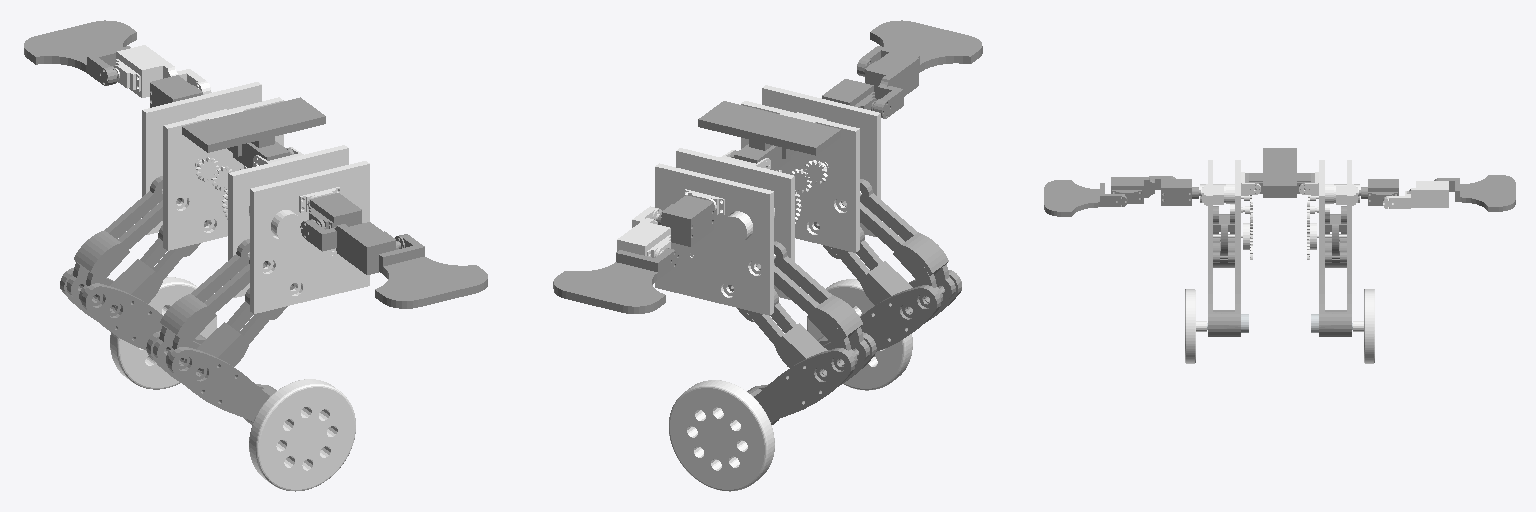
--- Render facts (derived) ---
3 views of the same robot in one strip: view 1: azimuth 30°, elevation 25°; view 2: azimuth 150°, elevation 25°; view 3: azimuth 270°, elevation 25° (orthographic).
Model jumpbot with 23 links and 22 joints (16 revolute, 4 continuous, 2 fixed), rooted at base_link, posed every joint at zero.
Visible links, largest first — view 1: R_baselink, L_baselink, R_wheel, base_link, R_arm3, L_arm3, R_leg3, L_leg3, R_leg1_R, L_leg1_R, L_wheel, R_arm2 (+6 smaller); view 2: L_baselink, R_baselink, L_wheel, L_arm3, base_link, L_leg3, R_leg3, R_arm3, L_leg1_L, R_leg1_L, R_wheel, R_arm2 (+6 smaller); view 3: L_baselink, R_baselink, base_link, R_arm3, L_arm3, L_arm2, R_arm2, L_wheel, R_wheel, R_arm1, L_arm1, L_leg1_R (+5 smaller).
Boxes of the visible links, x1,y1,x2,y2 form: R_baselink: (228, 145, 369, 313); L_baselink: (142, 82, 283, 250); R_wheel: (249, 379, 355, 491); base_link: (182, 97, 325, 167); R_arm3: (375, 234, 487, 308); L_arm3: (24, 20, 136, 85); R_leg3: (153, 239, 268, 365); L_leg3: (66, 176, 181, 302); R_leg1_R: (168, 347, 271, 421); L_leg1_R: (81, 283, 205, 350); L_wheel: (110, 277, 216, 389); R_arm2: (300, 219, 398, 274); L_baselink: (655, 148, 794, 315); R_baselink: (741, 85, 880, 252); L_wheel: (669, 380, 774, 491); L_arm3: (553, 248, 678, 313); base_link: (698, 101, 840, 170); L_leg3: (756, 241, 869, 366); R_leg3: (841, 179, 955, 303); R_arm3: (857, 20, 982, 76); L_leg1_L: (753, 348, 855, 421); R_leg1_L: (817, 285, 940, 351); R_wheel: (807, 279, 912, 390); R_arm2: (865, 52, 918, 118); L_baselink: (1299, 160, 1359, 274); R_baselink: (1200, 160, 1260, 274); base_link: (1249, 148, 1310, 197); R_arm3: (1044, 180, 1127, 216); L_arm3: (1434, 175, 1515, 211); L_arm2: (1383, 181, 1448, 208); R_arm2: (1111, 176, 1175, 203); L_wheel: (1353, 289, 1374, 363); R_wheel: (1185, 289, 1206, 363); R_arm1: (1161, 179, 1200, 205); L_arm1: (1359, 179, 1398, 205); L_leg1_R: (1319, 275, 1335, 336).
Size in the robot's own frame: 0.2682 by 0.855 by 0.3999 metres.
Meshes: 23 distinct files referenced, 23 mesh visuals loaded (23 binary STL).

robot.urdf — jumpbot:
<?xml version="1.0" ?>
<!-- This URDF was automatically created by SolidWorks to URDF Exporter! Originally created by Stephen Brawner ([email redacted]) 
     Commit Version: 1.6.0-4-g7f85cfe  Build Version: 1.6.7995.38578
     For more information, please see http://wiki.ros.org/sw_urdf_exporter -->
<robot name="jumpbot" xmlns:xacro="http://ros.org/wiki/xacro">

  <link
    name="base_link">
    <inertial>
      <origin
        xyz="0.0809392415875696 -2.22044604925031E-16 -0.0268118589394716"
        rpy="0 0 0" />
      <mass
        value="0.217189619120501" />
      <inertia
        ixx="6.93999698841076E-05"
        ixy="8.1353242860039E-21"
        ixz="4.23516473926473E-21"
        iyy="0.000141175353883686"
        iyz="-2.15898040243286E-20"
        izz="0.00016267826093993" />
    </inertial>
    <visual>
      <origin
        xyz="0 0 0"
        rpy="0 0 0" />
      <geometry>
        <mesh
          filename="package://jumpbot_description/meshes/base_link.STL" />
      </geometry>
      <material
        name="">
        <color
          rgba="0.698039215686274 0.698039215686274 0.698039215686274 1" />
      </material>
    </visual>
    <collision>
      <origin
        xyz="0 0 0"
        rpy="0 0 0" />
      <geometry>
        <mesh
          filename="package://jumpbot_description/meshes/base_link.STL" />
      </geometry>
    </collision>
  </link>
  <link
    name="L_baselink">
    <inertial>
      <origin
        xyz="-0.0534108228422897 -0.0546394924013222 0.0330499597556232"
        rpy="0 0 0" />
      <mass
        value="0.573131875857881" />
      <inertia
        ixx="0.00103570883331117"
        ixy="5.37563404056151E-07"
        ixz="6.83332900437198E-07"
        iyy="0.000616026636928765"
        iyz="2.40896372789806E-06"
        izz="0.000613586353749996" />
    </inertial>
    <visual>
      <origin
        xyz="0 0 0"
        rpy="0 0 0" />
      <geometry>
        <mesh
          filename="package://jumpbot_description/meshes/L_baselink.STL" />
      </geometry>
      <material
        name="">
        <color
          rgba="1 1 1 1" />
      </material>
    </visual>
    <collision>
      <origin
        xyz="0 0 0"
        rpy="0 0 0" />
      <geometry>
        <mesh
          filename="package://jumpbot_description/meshes/L_baselink.STL" />
      </geometry>
    </collision>
  </link>
  <link
    name="L_cam">
    <inertial>
      <origin
        xyz="-0.0123671557639675 -0.00321457691695015 -0.006663149888259"
        rpy="0 0 0" />
      <mass
        value="0.021837132265196" />
      <inertia
        ixx="6.8051154353684E-06"
        ixy="3.75833765675052E-06"
        ixz="4.41665363070508E-08"
        iyy="9.48114110352577E-06"
        iyz="1.13544978473268E-08"
        izz="1.56699522980087E-05" />
    </inertial>
    <visual>
      <origin
        xyz="0 0 0"
        rpy="0 0 0" />
      <geometry>
        <mesh
          filename="package://jumpbot_description/meshes/L_cam.STL" />
      </geometry>
      <material
        name="">
        <color
          rgba="0.698039215686274 0.698039215686274 0.698039215686274 1" />
      </material>
    </visual>
    <collision>
      <origin
        xyz="0 0 0"
        rpy="0 0 0" />
      <geometry>
        <mesh
          filename="package://jumpbot_description/meshes/L_cam.STL" />
      </geometry>
    </collision>
  </link>
  <link
    name="L_leg3">
    <inertial>
      <origin
        xyz="0.0873324965817303 0.011067795869679 -0.0100000000002772"
        rpy="0 0 0" />
      <mass
        value="0.04938529189609" />
      <inertia
        ixx="5.91254112996405E-06"
        ixy="-3.96515991620095E-06"
        ixz="9.8700864156177E-17"
        iyy="0.00010037156503426"
        iyz="5.39056562665093E-17"
        izz="0.000102535598937443" />
    </inertial>
    <visual>
      <origin
        xyz="0 0 0"
        rpy="0 0 0" />
      <geometry>
        <mesh
          filename="package://jumpbot_description/meshes/L_leg3.STL" />
      </geometry>
      <material
        name="">
        <color
          rgba="0.698039215686274 0.698039215686274 0.698039215686274 1" />
      </material>
    </visual>
    <collision>
      <origin
        xyz="0 0 0"
        rpy="0 0 0" />
      <geometry>
        <mesh
          filename="package://jumpbot_description/meshes/L_leg3.STL" />
      </geometry>
    </collision>
  </link>
  <link
    name="L_leg1_L">
    <inertial>
      <origin
        xyz="0.103256583074139 -1.25571775200228E-12 0.0524343515325116"
        rpy="0 0 0" />
      <mass
        value="0.0488233854097336" />
      <inertia
        ixx="1.13633089013212E-05"
        ixy="3.35347967113636E-16"
        ixz="8.46149636539923E-06"
        iyy="0.000183745807024676"
        iyz="-1.34330108074276E-16"
        izz="0.000190643011582041" />
    </inertial>
    <visual>
      <origin
        xyz="0 0 0"
        rpy="0 0 0" />
      <geometry>
        <mesh
          filename="package://jumpbot_description/meshes/L_leg1_L.STL" />
      </geometry>
      <material
        name="">
        <color
          rgba="0.698039215686274 0.698039215686274 0.698039215686274 1" />
      </material>
    </visual>
    <collision>
      <origin
        xyz="0 0 0"
        rpy="0 0 0" />
      <geometry>
        <mesh
          filename="package://jumpbot_description/meshes/L_leg1_L.STL" />
      </geometry>
    </collision>
  </link>
  <link
    name="L_leg2">
    <inertial>
      <origin
        xyz="0.0433566032475844 -0.013978563556407 -0.0100000000000023"
        rpy="0 0 0" />
      <mass
        value="0.0913704605771619" />
      <inertia
        ixx="1.59115847930602E-05"
        ixy="-9.15274215698794E-06"
        ixz="-1.2827298765227E-19"
        iyy="0.000107718568176025"
        iyz="-1.52577548724923E-20"
        izz="0.000115555396825785" />
    </inertial>
    <visual>
      <origin
        xyz="0 0 0"
        rpy="0 0 0" />
      <geometry>
        <mesh
          filename="package://jumpbot_description/meshes/L_leg2.STL" />
      </geometry>
      <material
        name="">
        <color
          rgba="0.698039215686274 0.698039215686274 0.698039215686274 1" />
      </material>
    </visual>
    <collision>
      <origin
        xyz="0 0 0"
        rpy="0 0 0" />
      <geometry>
        <mesh
          filename="package://jumpbot_description/meshes/L_leg2.STL" />
      </geometry>
    </collision>
  </link>
  <link
    name="L_leg1_R">
    <inertial>
      <origin
        xyz="-0.050898115814726 -0.051228173586405 -0.05190990311479"
        rpy="0 0 0" />
      <mass
        value="0.048089038126957" />
      <inertia
        ixx="9.6562281953873E-05"
        ixy="-8.44615538524824E-05"
        ixz="7.2332747463015E-06"
        iyy="9.54703992079216E-05"
        iyz="7.28018018682309E-06"
        izz="0.000187281085804032" />
    </inertial>
    <visual>
      <origin
        xyz="0 0 0"
        rpy="0 0 0" />
      <geometry>
        <mesh
          filename="package://jumpbot_description/meshes/L_leg1_R.STL" />
      </geometry>
      <material
        name="">
        <color
          rgba="0.698039215686274 0.698039215686274 0.698039215686274 1" />
      </material>
    </visual>
    <collision>
      <origin
        xyz="0 0 0"
        rpy="0 0 0" />
      <geometry>
        <mesh
          filename="package://jumpbot_description/meshes/L_leg1_R.STL" />
      </geometry>
    </collision>
  </link>
  <link
    name="L_motor">
    <inertial>
      <origin
        xyz="0.00416102302892774 0.00418800591150774 -0.0797766145975524"
        rpy="0 0 0" />
      <mass
        value="0.185473445257405" />
      <inertia
        ixx="9.30910309029802E-05"
        ixy="-5.27298058667433E-08"
        ixz="5.0129853674806E-07"
        iyy="9.30903492346865E-05"
        iyz="5.04549293671954E-07"
        izz="2.87226394735975E-05" />
    </inertial>
    <visual>
      <origin
        xyz="0 0 0"
        rpy="0 0 0" />
      <geometry>
        <mesh
          filename="package://jumpbot_description/meshes/L_motor.STL" />
      </geometry>
      <material
        name="">
        <color
          rgba="0.898039215686275 0.917647058823529 0.929411764705882 1" />
      </material>
    </visual>
    <collision>
      <origin
        xyz="0 0 0"
        rpy="0 0 0" />
      <geometry>
        <mesh
          filename="package://jumpbot_description/meshes/L_motor.STL" />
      </geometry>
    </collision>
  </link>
  <link
    name="L_wheel">
    <inertial>
      <origin
        xyz="4.39648317751562E-14 -2.84675061301698E-13 -0.0109262297782676"
        rpy="0 0 0" />
      <mass
        value="0.263999173137418" />
      <inertia
        ixx="0.000320342641420399"
        ixy="1.39363385881988E-19"
        ixz="-6.94397950758325E-16"
        iyy="0.000320342641420399"
        iyz="6.08514136674974E-15"
        izz="0.000616988568732304" />
    </inertial>
    <visual>
      <origin
        xyz="0 0 0"
        rpy="0 0 0" />
      <geometry>
        <mesh
          filename="package://jumpbot_description/meshes/L_wheel.STL" />
      </geometry>
      <material
        name="">
        <color
          rgba="1 1 1 1" />
      </material>
    </visual>
    <collision>
      <origin
        xyz="0 0 0"
        rpy="0 0 0" />
      <geometry>
        <mesh
          filename="package://jumpbot_description/meshes/L_wheel.STL" />
      </geometry>
    </collision>
  </link>
  <link
    name="L_arm1">
    <inertial>
      <origin
        xyz="-0.00579242530675816 -0.000660568262209338 0.0392997277868803"
        rpy="0 0 0" />
      <mass
        value="0.0772344881148099" />
      <inertia
        ixx="2.1641622308835E-05"
        ixy="-4.84133079986496E-07"
        ixz="1.96292319875646E-07"
        iyy="2.58317030721296E-05"
        iyz="2.23851786821489E-08"
        izz="1.51644396371457E-05" />
    </inertial>
    <visual>
      <origin
        xyz="0 0 0"
        rpy="0 0 0" />
      <geometry>
        <mesh
          filename="package://jumpbot_description/meshes/L_arm1.STL" />
      </geometry>
      <material
        name="">
        <color
          rgba="0.698039215686274 0.698039215686274 0.698039215686274 1" />
      </material>
    </visual>
    <collision>
      <origin
        xyz="0 0 0"
        rpy="0 0 0" />
      <geometry>
        <mesh
          filename="package://jumpbot_description/meshes/L_arm1.STL" />
      </geometry>
    </collision>
  </link>
  <link
    name="L_arm2">
    <inertial>
      <origin
        xyz="0.0742096986932852 1.53568824323713E-12 -0.0293907814404099"
        rpy="0 0 0" />
      <mass
        value="0.0880266519036123" />
      <inertia
        ixx="2.12845479280635E-05"
        ixy="-6.832345567368E-16"
        ixz="1.03651693160751E-05"
        iyy="5.43768043952165E-05"
        iyz="2.14005275623767E-16"
        izz="4.55077968841721E-05" />
    </inertial>
    <visual>
      <origin
        xyz="0 0 0"
        rpy="0 0 0" />
      <geometry>
        <mesh
          filename="package://jumpbot_description/meshes/L_arm2.STL" />
      </geometry>
      <material
        name="">
        <color
          rgba="1 1 1 1" />
      </material>
    </visual>
    <collision>
      <origin
        xyz="0 0 0"
        rpy="0 0 0" />
      <geometry>
        <mesh
          filename="package://jumpbot_description/meshes/L_arm2.STL" />
      </geometry>
    </collision>
  </link>
  <link
    name="L_arm3">
    <inertial>
      <origin
        xyz="-0.0846234692097403 -0.00497008660565307 -0.014879977294088"
        rpy="0 0 0" />
      <mass
        value="0.0621671393056517" />
      <inertia
        ixx="6.26827342638435E-05"
        ixy="-3.66085857605269E-06"
        ixz="-6.94541372568381E-06"
        iyy="0.000142170205993413"
        iyz="-4.70112745709243E-07"
        izz="8.17963298452532E-05" />
    </inertial>
    <visual>
      <origin
        xyz="0 0 0"
        rpy="0 0 0" />
      <geometry>
        <mesh
          filename="package://jumpbot_description/meshes/L_arm3.STL" />
      </geometry>
      <material
        name="">
        <color
          rgba="0.698039215686274 0.698039215686274 0.698039215686274 1" />
      </material>
    </visual>
    <collision>
      <origin
        xyz="0 0 0"
        rpy="0 0 0" />
      <geometry>
        <mesh
          filename="package://jumpbot_description/meshes/L_arm3.STL" />
      </geometry>
    </collision>
  </link>
  <link
    name="R_baselink">
    <inertial>
      <origin
        xyz="0.0534111012007815 -0.0546259162379965 0.0330411958042715"
        rpy="0 0 0" />
      <mass
        value="0.573137658525037" />
      <inertia
        ixx="0.00103579248532628"
        ixy="-5.37742467359377E-07"
        ixz="-6.83219980106792E-07"
        iyy="0.000615652641603578"
        iyz="2.20570874301773E-06"
        izz="0.000614044097474171" />
    </inertial>
    <visual>
      <origin
        xyz="0 0 0"
        rpy="0 0 0" />
      <geometry>
        <mesh
          filename="package://jumpbot_description/meshes/R_baselink.STL" />
      </geometry>
      <material
        name="">
        <color
          rgba="1 1 1 1" />
      </material>
    </visual>
    <collision>
      <origin
        xyz="0 0 0"
        rpy="0 0 0" />
      <geometry>
        <mesh
          filename="package://jumpbot_description/meshes/R_baselink.STL" />
      </geometry>
    </collision>
  </link>
  <link
    name="R_cam">
    <inertial>
      <origin
        xyz="-0.0123671557639661 -0.00321457691694993 -0.00633667590842713"
        rpy="0 0 0" />
      <mass
        value="0.0218371322651959" />
      <inertia
        ixx="6.80443103291066E-06"
        ixy="3.75802297681279E-06"
        ixz="-4.40765446392377E-08"
        iyy="9.48117388630703E-06"
        iyz="-1.14658632301776E-08"
        izz="1.5669330246759E-05" />
    </inertial>
    <visual>
      <origin
        xyz="0 0 0"
        rpy="0 0 0" />
      <geometry>
        <mesh
          filename="package://jumpbot_description/meshes/R_cam.STL" />
      </geometry>
      <material
        name="">
        <color
          rgba="0.698039215686274 0.698039215686274 0.698039215686274 1" />
      </material>
    </visual>
    <collision>
      <origin
        xyz="0 0 0"
        rpy="0 0 0" />
      <geometry>
        <mesh
          filename="package://jumpbot_description/meshes/R_cam.STL" />
      </geometry>
    </collision>
  </link>
  <link
    name="R_leg3">
    <inertial>
      <origin
        xyz="0.0873324965817361 0.0110677958698842 0.00999999999999818"
        rpy="0 0 0" />
      <mass
        value="0.0493852918960901" />
      <inertia
        ixx="5.91254112993184E-06"
        ixy="-3.96515991581777E-06"
        ixz="1.57800551378829E-20"
        iyy="0.000100371565034293"
        iyz="4.39804530749343E-21"
        izz="0.000102535598937443" />
    </inertial>
    <visual>
      <origin
        xyz="0 0 0"
        rpy="0 0 0" />
      <geometry>
        <mesh
          filename="package://jumpbot_description/meshes/R_leg3.STL" />
      </geometry>
      <material
        name="">
        <color
          rgba="0.698039215686274 0.698039215686274 0.698039215686274 1" />
      </material>
    </visual>
    <collision>
      <origin
        xyz="0 0 0"
        rpy="0 0 0" />
      <geometry>
        <mesh
          filename="package://jumpbot_description/meshes/R_leg3.STL" />
      </geometry>
    </collision>
  </link>
  <link
    name="R_leg1_R">
    <inertial>
      <origin
        xyz="0.10325658361132 -5.21591525526333E-09 -0.0524343515325074"
        rpy="0 0 0" />
      <mass
        value="0.0488233854097336" />
      <inertia
        ixx="1.13633089013208E-05"
        ixy="1.05325650571395E-12"
        ixz="-8.46149636539916E-06"
        iyy="0.000183745807024675"
        iyz="5.16997275129663E-14"
        izz="0.00019064301158204" />
    </inertial>
    <visual>
      <origin
        xyz="0 0 0"
        rpy="0 0 0" />
      <geometry>
        <mesh
          filename="package://jumpbot_description/meshes/R_leg1_R.STL" />
      </geometry>
      <material
        name="">
        <color
          rgba="0.698039215686274 0.698039215686274 0.698039215686274 1" />
      </material>
    </visual>
    <collision>
      <origin
        xyz="0 0 0"
        rpy="0 0 0" />
      <geometry>
        <mesh
          filename="package://jumpbot_description/meshes/R_leg1_R.STL" />
      </geometry>
    </collision>
  </link>
  <link
    name="R_leg2">
    <inertial>
      <origin
        xyz="0.0433566032475216 -0.0139785635562044 0.0100000000000002"
        rpy="0 0 0" />
      <mass
        value="0.0913704605771619" />
      <inertia
        ixx="1.59115847929818E-05"
        ixy="-9.15274215659485E-06"
        ixz="-2.39494956007369E-20"
        iyy="0.000107718568176103"
        iyz="-2.218164219063E-20"
        izz="0.000115555396825785" />
    </inertial>
    <visual>
      <origin
        xyz="0 0 0"
        rpy="0 0 0" />
      <geometry>
        <mesh
          filename="package://jumpbot_description/meshes/R_leg2.STL" />
      </geometry>
      <material
        name="">
        <color
          rgba="0.698039215686274 0.698039215686274 0.698039215686274 1" />
      </material>
    </visual>
    <collision>
      <origin
        xyz="0 0 0"
        rpy="0 0 0" />
      <geometry>
        <mesh
          filename="package://jumpbot_description/meshes/R_leg2.STL" />
      </geometry>
    </collision>
  </link>
  <link
    name="R_leg1_L">
    <inertial>
      <origin
        xyz="-0.0508895051595862 -0.0512367273254126 -0.00809009688334644"
        rpy="0 0 0" />
      <mass
        value="0.048089038126957" />
      <inertia
        ixx="9.65906728862334E-05"
        ixy="-8.44613655679677E-05"
        ixz="-7.23205105876653E-06"
        iyy="9.54420082750328E-05"
        iyz="-7.28139577954664E-06"
        izz="0.000187281085804563" />
    </inertial>
    <visual>
      <origin
        xyz="0 0 0"
        rpy="0 0 0" />
      <geometry>
        <mesh
          filename="package://jumpbot_description/meshes/R_leg1_L.STL" />
      </geometry>
      <material
        name="">
        <color
          rgba="0.698039215686274 0.698039215686274 0.698039215686274 1" />
      </material>
    </visual>
    <collision>
      <origin
        xyz="0 0 0"
        rpy="0 0 0" />
      <geometry>
        <mesh
          filename="package://jumpbot_description/meshes/R_leg1_L.STL" />
      </geometry>
    </collision>
  </link>
  <link
    name="R_motor">
    <inertial>
      <origin
        xyz="0.00416031909020936 0.00418870520018305 0.0797766145974"
        rpy="0 0 0" />
      <mass
        value="0.185473445257405" />
      <inertia
        ixx="9.30910486275977E-05"
        ixy="-5.27296883377382E-08"
        ixz="-5.01213729594481E-07"
        iyy="9.3090331510032E-05"
        iyz="-5.04633542600646E-07"
        izz="2.87226394736342E-05" />
    </inertial>
    <visual>
      <origin
        xyz="0 0 0"
        rpy="0 0 0" />
      <geometry>
        <mesh
          filename="package://jumpbot_description/meshes/R_motor.STL" />
      </geometry>
      <material
        name="">
        <color
          rgba="0.898039215686275 0.917647058823529 0.929411764705882 1" />
      </material>
    </visual>
    <collision>
      <origin
        xyz="0 0 0"
        rpy="0 0 0" />
      <geometry>
        <mesh
          filename="package://jumpbot_description/meshes/R_motor.STL" />
      </geometry>
    </collision>
  </link>
  <link
    name="R_wheel">
    <inertial>
      <origin
        xyz="-2.01505478969466E-14 1.70793934550773E-13 0.0109262297782678"
        rpy="0 0 0" />
      <mass
        value="0.263999173137418" />
      <inertia
        ixx="0.000320342641420399"
        ixy="-1.61655178777516E-19"
        ixz="-6.94631119489014E-16"
        iyy="0.000320342641420399"
        iyz="6.08535656983316E-15"
        izz="0.000616988568732304" />
    </inertial>
    <visual>
      <origin
        xyz="0 0 0"
        rpy="0 0 0" />
      <geometry>
        <mesh
          filename="package://jumpbot_description/meshes/R_wheel.STL" />
      </geometry>
      <material
        name="">
        <color
          rgba="1 1 1 1" />
      </material>
    </visual>
    <collision>
      <origin
        xyz="0 0 0"
        rpy="0 0 0" />
      <geometry>
        <mesh
          filename="package://jumpbot_description/meshes/R_wheel.STL" />
      </geometry>
    </collision>
  </link>
  <link
    name="R_arm1">
    <inertial>
      <origin
        xyz="0.00579242530675733 0.000660568262206673 -0.0392997277868801"
        rpy="0 0 0" />
      <mass
        value="0.07723448811481" />
      <inertia
        ixx="2.1641622308835E-05"
        ixy="-4.84133079986393E-07"
        ixz="1.96292319875674E-07"
        iyy="2.58317030721297E-05"
        iyz="2.23851786821462E-08"
        izz="1.51644396371457E-05" />
    </inertial>
    <visual>
      <origin
        xyz="0 0 0"
        rpy="0 0 0" />
      <geometry>
        <mesh
          filename="package://jumpbot_description/meshes/R_arm1.STL" />
      </geometry>
      <material
        name="">
        <color
          rgba="0.698039215686274 0.698039215686274 0.698039215686274 1" />
      </material>
    </visual>
    <collision>
      <origin
        xyz="0 0 0"
        rpy="0 0 0" />
      <geometry>
        <mesh
          filename="package://jumpbot_description/meshes/R_arm1.STL" />
      </geometry>
    </collision>
  </link>
  <link
    name="R_arm2">
    <inertial>
      <origin
        xyz="0.0742096986932864 -1.53216328513395E-12 -0.0293907814404097"
        rpy="0 0 0" />
      <mass
        value="0.0880266519036124" />
      <inertia
        ixx="2.12845479280636E-05"
        ixy="6.83248256558661E-16"
        ixz="1.03651693160751E-05"
        iyy="5.43768043952167E-05"
        iyz="-2.14006975379756E-16"
        izz="4.55077968841723E-05" />
    </inertial>
    <visual>
      <origin
        xyz="0 0 0"
        rpy="0 0 0" />
      <geometry>
        <mesh
          filename="package://jumpbot_description/meshes/R_arm2.STL" />
      </geometry>
      <material
        name="">
        <color
          rgba="0.698039215686274 0.698039215686274 0.698039215686274 1" />
      </material>
    </visual>
    <collision>
      <origin
        xyz="0 0 0"
        rpy="0 0 0" />
      <geometry>
        <mesh
          filename="package://jumpbot_description/meshes/R_arm2.STL" />
      </geometry>
    </collision>
  </link>
  <link
    name="R_arm3">
    <inertial>
      <origin
        xyz="-0.0846234692095354 -0.00497008660914752 -0.014879977294088"
        rpy="0 0 0" />
      <mass
        value="0.0621671393056517" />
      <inertia
        ixx="6.26827342641458E-05"
        ixy="-3.66085857933498E-06"
        ixz="-6.94541372566429E-06"
        iyy="0.000142170205993111"
        iyz="-4.70112745996042E-07"
        izz="8.1796329845253E-05" />
    </inertial>
    <visual>
      <origin
        xyz="0 0 0"
        rpy="0 0 0" />
      <geometry>
        <mesh
          filename="package://jumpbot_description/meshes/R_arm3.STL" />
      </geometry>
      <material
        name="">
        <color
          rgba="0.698039215686274 0.698039215686274 0.698039215686274 1" />
      </material>
    </visual>
    <collision>
      <origin
        xyz="0 0 0"
        rpy="0 0 0" />
      <geometry>
        <mesh
          filename="package://jumpbot_description/meshes/R_arm3.STL" />
      </geometry>
    </collision>
  </link>
  <joint
    name="L_baselink_joint"
    type="revolute">
    <origin
      xyz="0.1065 0.0450000000000004 -0.0330000000000008"
      rpy="1.5707963267949 0 -1.5707963267949" />
    <parent
      link="base_link" />
    <child
      link="L_baselink" />
    <axis
      xyz="0 0 1" />
    <limit
      lower="0"
      upper="0"
      effort="0"
      velocity="0" />
  </joint>
  <joint
    name="L_cam_joint"
    type="continuous">
    <origin
      xyz="-0.0620000000018907 -0.0915314647309971 -0.00417000000000045"
      rpy="1.57079632679489 -1.45724685889206 -1.57079632679489" />
    <parent
      link="L_baselink" />
    <child
      link="L_cam" />
    <axis
      xyz="0 0 1" />
  </joint>
  <joint
    name="L_leg3_joint"
    type="revolute">
    <origin
      xyz="-0.0660000000018272 -0.0883531819184021 0.0824162107442846"
      rpy="1.57079632681981 -0.853930194145867 -1.57079632681554" />
    <parent
      link="L_baselink" />
    <child
      link="L_leg3" />
    <axis
      xyz="0 0 -1" />
    <limit
      lower="0"
      upper="0"
      effort="0"
      velocity="0" />
  </joint>
  <joint
    name="L_leg1_L_joint"
    type="revolute">
    <origin
      xyz="0.150000000000081 0 -0.040000000000003"
      rpy="0 0 -1.74964597766658" />
    <parent
      link="L_leg3" />
    <child
      link="L_leg1_L" />
    <axis
      xyz="0 0 -1" />
    <limit
      lower="0"
      upper="0"
      effort="0"
      velocity="0" />
  </joint>
  <joint
    name="L_leg2_joint"
    type="revolute">
    <origin
      xyz="-0.0660000000025969 -0.1254831819183 0.0453000000002221"
      rpy="1.57079632679489 -1.00689911983256 -1.57079632681554" />
    <parent
      link="L_baselink" />
    <child
      link="L_leg2" />
    <axis
      xyz="0 0 1" />
    <limit
      lower="0"
      upper="0"
      effort="0"
      velocity="0" />
  </joint>
  <joint
    name="L_leg1_R_joint"
    type="revolute">
    <origin
      xyz="0.15000000000002 0 0.0199999999999946"
      rpy="0 0 0.450347739059501" />
    <parent
      link="L_leg2" />
    <child
      link="L_leg1_R" />
    <axis
      xyz="0 0 1" />
    <limit
      lower="0"
      upper="0"
      effort="0"
      velocity="0" />
  </joint>
  <joint
    name="L_motor_joint"
    type="fixed">
    <origin
      xyz="-0.105722674632221 -0.106408251881274 0.0420000000019356"
      rpy="0 0 0" />
    <parent
      link="L_leg1_R" />
    <child
      link="L_motor" />
    <axis
      xyz="0 0 0" />
  </joint>
  <joint
    name="L_wheel_joint"
    type="continuous">
    <origin
      xyz="0 0 0"
      rpy="0 0 0" />
    <parent
      link="L_motor" />
    <child
      link="L_wheel" />
    <axis
      xyz="0 0 -1" />
  </joint>
  <joint
    name="L_arm1_joint"
    type="revolute">
    <origin
      xyz="-0.1025 -0.0175 0.023998"
      rpy="1.5708 -1.4572 -1.5708" />
    <parent
      link="L_baselink" />
    <child
      link="L_arm1" />
    <axis
      xyz="0 0 -1" />
    <limit
      lower="0"
      upper="0"
      effort="0"
      velocity="0" />
  </joint>
  <joint
    name="L_arm2_joint"
    type="revolute">
    <origin
      xyz="-0.03552 -0.0040507 0.05"
      rpy="0.11355 -1.5708 0" />
    <parent
      link="L_arm1" />
    <child
      link="L_arm2" />
    <axis
      xyz="0 0 -1" />
    <limit
      lower="0"
      upper="0"
      effort="0"
      velocity="0" />
  </joint>
  <joint
    name="L_arm3_joint"
    type="revolute">
    <origin
      xyz="0.0899999999999991 0 -0.0630000000000002"
      rpy="3.14159265358979 0 -3.14159265358979" />
    <parent
      link="L_arm2" />
    <child
      link="L_arm3" />
    <axis
      xyz="0 0 -1" />
    <limit
      lower="0"
      upper="0"
      effort="0"
      velocity="0" />
  </joint>
  <joint
    name="R_baselink_joint"
    type="revolute">
    <origin
      xyz="0.1065 -0.045 -0.0330000000000002"
      rpy="1.5707963267949 0 -1.5707963267949" />
    <parent
      link="base_link" />
    <child
      link="R_baselink" />
    <axis
      xyz="0 0 1" />
    <limit
      lower="0"
      upper="0"
      effort="0"
      velocity="0" />
  </joint>
  <joint
    name="R_cam_joint"
    type="continuous">
    <origin
      xyz="0.0489999999981055 -0.091531464733288 -0.00416999999999973"
      rpy="1.57079632679488 -1.45724685889206 -1.57079632679488" />
    <parent
      link="R_baselink" />
    <child
      link="R_cam" />
    <axis
      xyz="0 0 1" />
  </joint>
  <joint
    name="R_leg3_joint"
    type="revolute">
    <origin
      xyz="0.065999999998173 -0.0883531819214337 0.0824162107440945"
      rpy="1.5707963267949 -0.853721604418042 -1.57079632681554" />
    <parent
      link="R_baselink" />
    <child
      link="R_leg3" />
    <axis
      xyz="0 0 -1" />
    <limit
      lower="0"
      upper="0"
      effort="0"
      velocity="0" />
  </joint>
  <joint
    name="R_leg1_R_joint"
    type="revolute">
    <origin
      xyz="0.150000004607446 0 0.039999999999998"
      rpy="0 0 -1.74926931149431" />
    <parent
      link="R_leg3" />
    <child
      link="R_leg1_R" />
    <axis
      xyz="0 0 -1" />
    <limit
      lower="0"
      upper="0"
      effort="0"
      velocity="0" />
  </joint>
  <joint
    name="R_leg2_joint"
    type="revolute">
    <origin
      xyz="0.0659999999974047 -0.125483181921434 0.0453000000000003"
      rpy="1.57079632679489 -1.00668202156475 -1.57079632681554" />
    <parent
      link="R_baselink" />
    <child
      link="R_leg2" />
    <axis
      xyz="0 0 1" />
    <limit
      lower="0"
      upper="0"
      effort="0"
      velocity="0" />
  </joint>
  <joint
    name="R_leg1_L_joint"
    type="revolute">
    <origin
      xyz="0.149999999999984 0 0.0399999999999999"
      rpy="0 0 0.450564837327306" />
    <parent
      link="R_leg2" />
    <child
      link="R_leg1_L" />
    <axis
      xyz="0 0 1" />
    <limit
      lower="0"
      upper="0"
      effort="0"
      velocity="0" />
  </joint>
  <joint
    name="R_motor_joint"
    type="fixed">
    <origin
      xyz="-0.1057 -0.10643 -0.102"
      rpy="0 0 0" />
    <parent
      link="R_leg1_L" />
    <child
      link="R_motor" />
    <axis
      xyz="0 0 0" />
  </joint>
  <joint
    name="R_wheel_joint"
    type="continuous">
    <origin
      xyz="0 0 0"
      rpy="0 0 0" />
    <parent
      link="R_motor" />
    <child
      link="R_wheel" />
    <axis
      xyz="0 0 1" />
  </joint>
  <joint
    name="R_arm1_joint"
    type="revolute">
    <origin
      xyz="0.1025 -0.0175 0.023998"
      rpy="1.5708 -1.4572 -1.5708" />
    <parent
      link="R_baselink" />
    <child
      link="R_arm1" />
    <axis
      xyz="0 0 1" />
    
    <limit effort="300" velocity="0.1" lower="-3.14" upper="3.14"/>
    
  </joint>
  <joint
    name="R_arm2_joint"
    type="revolute">
    <origin
      xyz="0.03552 0.0040507 -0.05"
      rpy="-0.11355 1.5708 0" />
    <parent
      link="R_arm1" />
    <child
      link="R_arm2" />
    <axis
      xyz="0 0 -1" />
    <limit
      lower="0"
      upper="0"
      effort="0"
      velocity="0" />
  </joint>
  <joint
    name="joint1"
    type="revolute">
    <origin
      xyz="0.09 0 -0.063"
      rpy="-3.1416 0 -3.1416" />
    <parent
      link="R_arm2" />
    <child
      link="R_arm3" />
    <axis
      xyz="0 0 -1" />
    <limit
      lower="-0"
      upper="0"
      effort="0"
      velocity="0" />

  </joint>

</robot>
